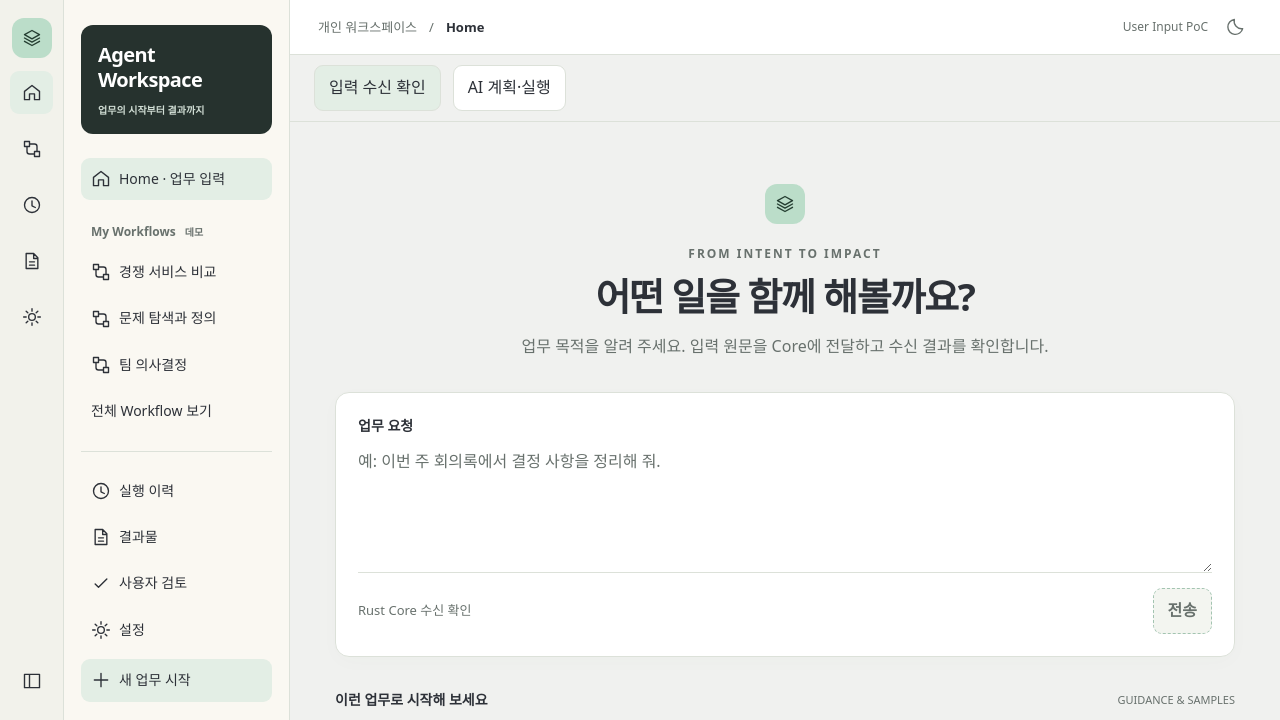
Workspace › UI-005 개발 예정 실행 비활성
Click the button named "Workflows" at (32, 148), box [10, 127, 53, 170]
(page scrolled)
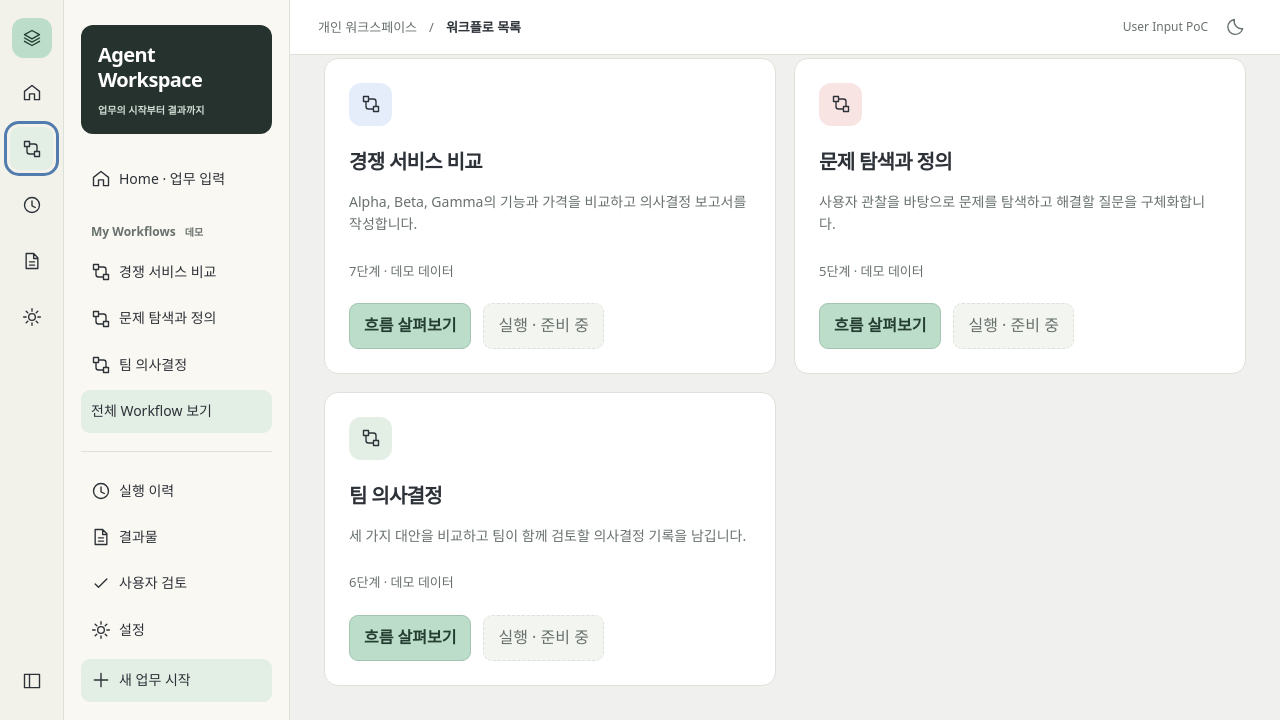
Expected: the number of buttons "실행 · 준비 중" is 3, [484, 303, 604, 349]; [954, 303, 1074, 349]; [484, 615, 604, 660]
Expected: the 1st button "실행 · 준비 중" is disabled, [484, 303, 604, 349]
Expected: the button "실행 · 준비 중" below "사용자 관찰을 바탕으로 문제를 탐색하고 해결할 질문을 구체화합니다." is disabled, [954, 303, 1074, 349]
